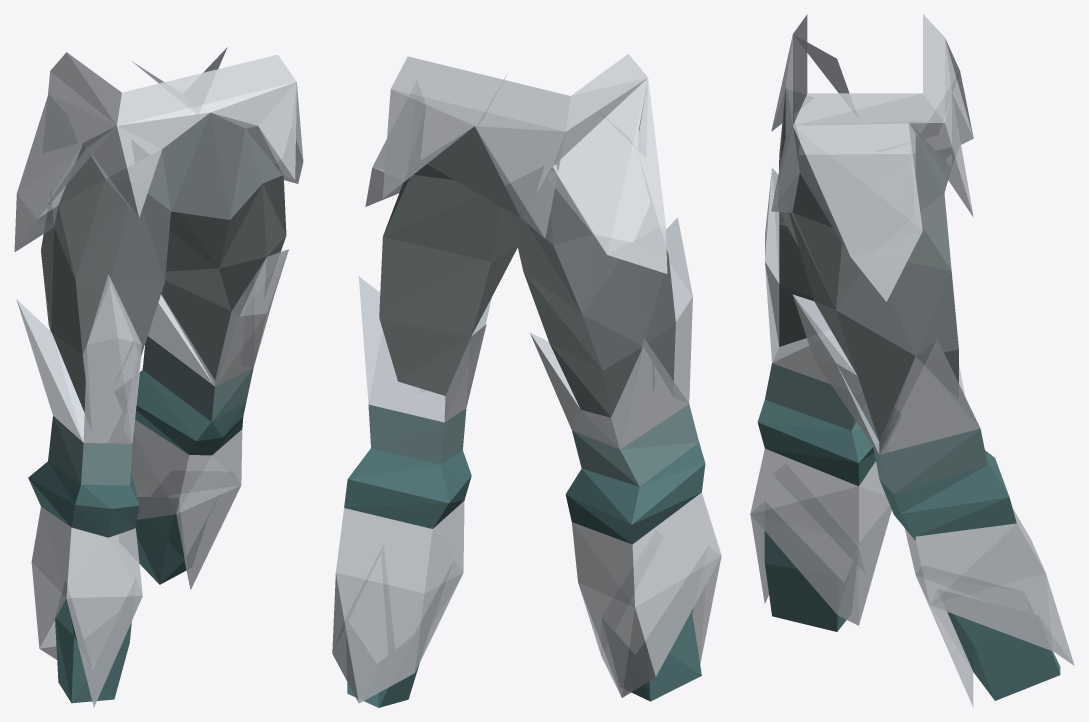
The model's file is player_crystal_legs.glb.
3 renders of one model, left to right at view 1: azimuth 30°, elevation 25°; view 2: azimuth 150°, elevation 25°; view 3: azimuth 270°, elevation 25°, orthographic. The views are drawn at different scales.
Bounding box in the file's own units: 47.76 × 94.74 × 44.83.
2 materials, 2 textured.
